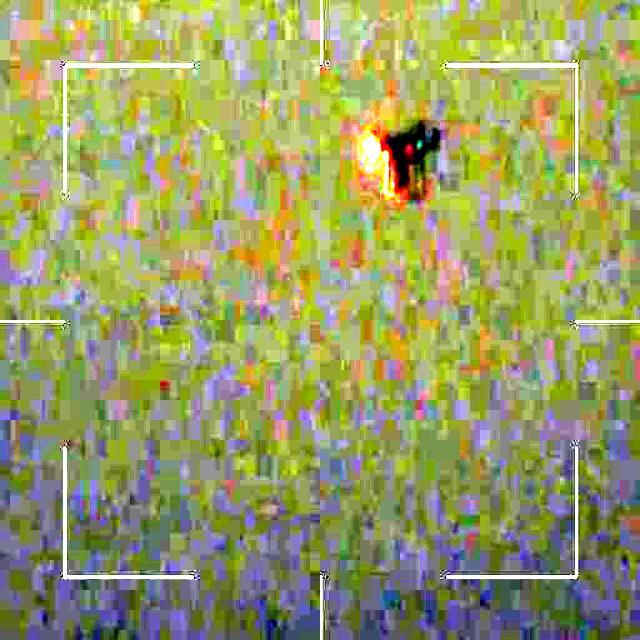bird: (355, 128, 436, 214)
